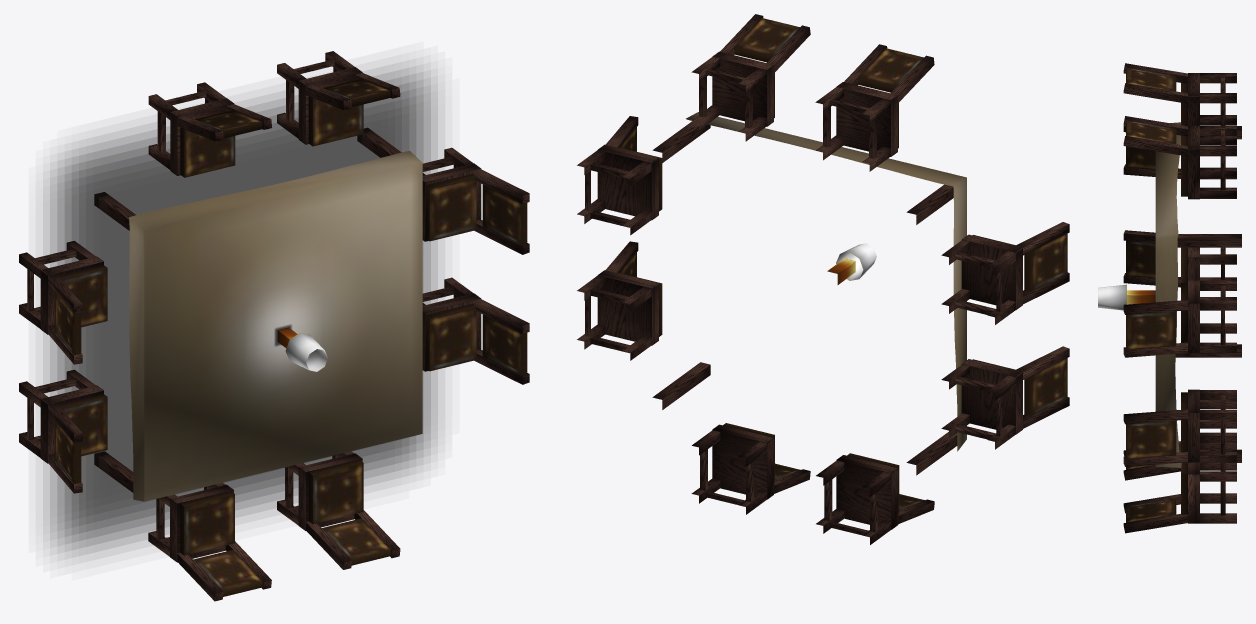
The model's file is banquet_table.glb.
3 renders of one model, left to right at view 1: azimuth 30°, elevation 25°; view 2: azimuth 150°, elevation 25°; view 3: azimuth 270°, elevation 25°, orthographic. The views are drawn at different scales.
Visible parts, largest first — view 1: cloth, shadow, pCube78 (×8), pCube79 (×8), pCube77 (×8), leg34 (×2), leg35 (×2), shade_1, leg2, leg1; view 2: pCube77 (×8), pCube79 (×4), cloth, leg35 (×2), leg34 (×2), leg3, leg4, leg2, leg1, shade_1; view 3: pCube79 (×7), cloth, pCube77 (×6), leg34 (×8), leg35 (×6), leg8 (×6), leg11 (×6), leg9 (×6), leg10 (×6), pCube78 (×6), leg4, shade_1 (+3 smaller).
Part boxes in pixels (x1,y1,x2,y2): cloth: (129, 151, 422, 501); shadow: (43, 60, 437, 558); pCube78 (×8): (59, 96, 476, 555); pCube79 (×8): (54, 79, 527, 596); pCube77 (×8): (40, 67, 481, 562); leg34 (×2): (472, 169, 529, 334); leg35 (×2): (177, 521, 351, 601); shade_1: (285, 333, 327, 371); leg2: (94, 451, 133, 492); leg1: (94, 192, 135, 230); pCube77 (×8): (597, 51, 1022, 529); pCube79 (×4): (734, 18, 1067, 416); cloth: (686, 112, 966, 451); leg35 (×2): (1015, 222, 1069, 379); leg34 (×2): (767, 25, 934, 103); leg3: (652, 362, 710, 409); leg4: (652, 121, 710, 162); leg2: (906, 432, 957, 475); leg1: (906, 184, 953, 224); shade_1: (836, 243, 876, 280); pCube79 (×7): (1126, 67, 1176, 522); cloth: (1155, 122, 1181, 467); pCube77 (×6): (1188, 73, 1199, 523); leg34 (×8): (1123, 63, 1187, 533); leg35 (×6): (1123, 83, 1187, 513); leg8 (×6): (1200, 73, 1236, 523); leg11 (×6): (1200, 93, 1236, 503); leg9 (×6): (1200, 115, 1236, 481); leg10 (×6): (1200, 136, 1236, 442); pCube78 (×6): (1181, 83, 1187, 514); leg4: (1177, 234, 1241, 247); shade_1: (1098, 284, 1126, 310).
Size of the model in its own units: 20.06 by 20.26 by 6.39.
7 materials, 7 textured.
